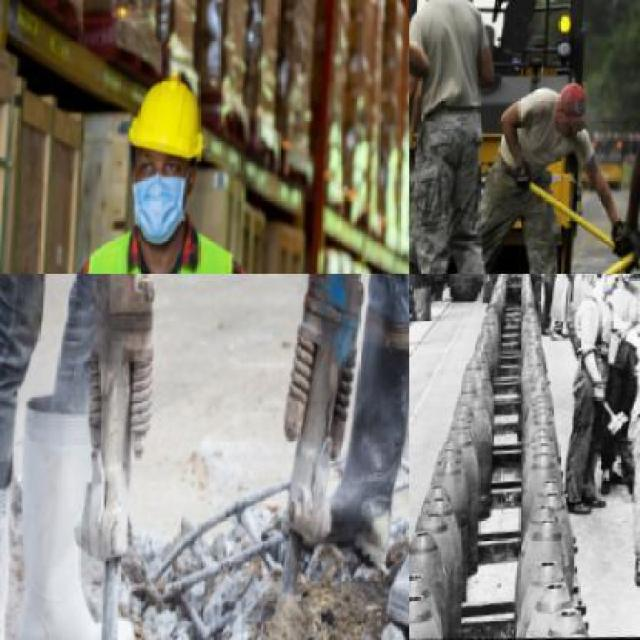helmet: (126, 74, 209, 178)
